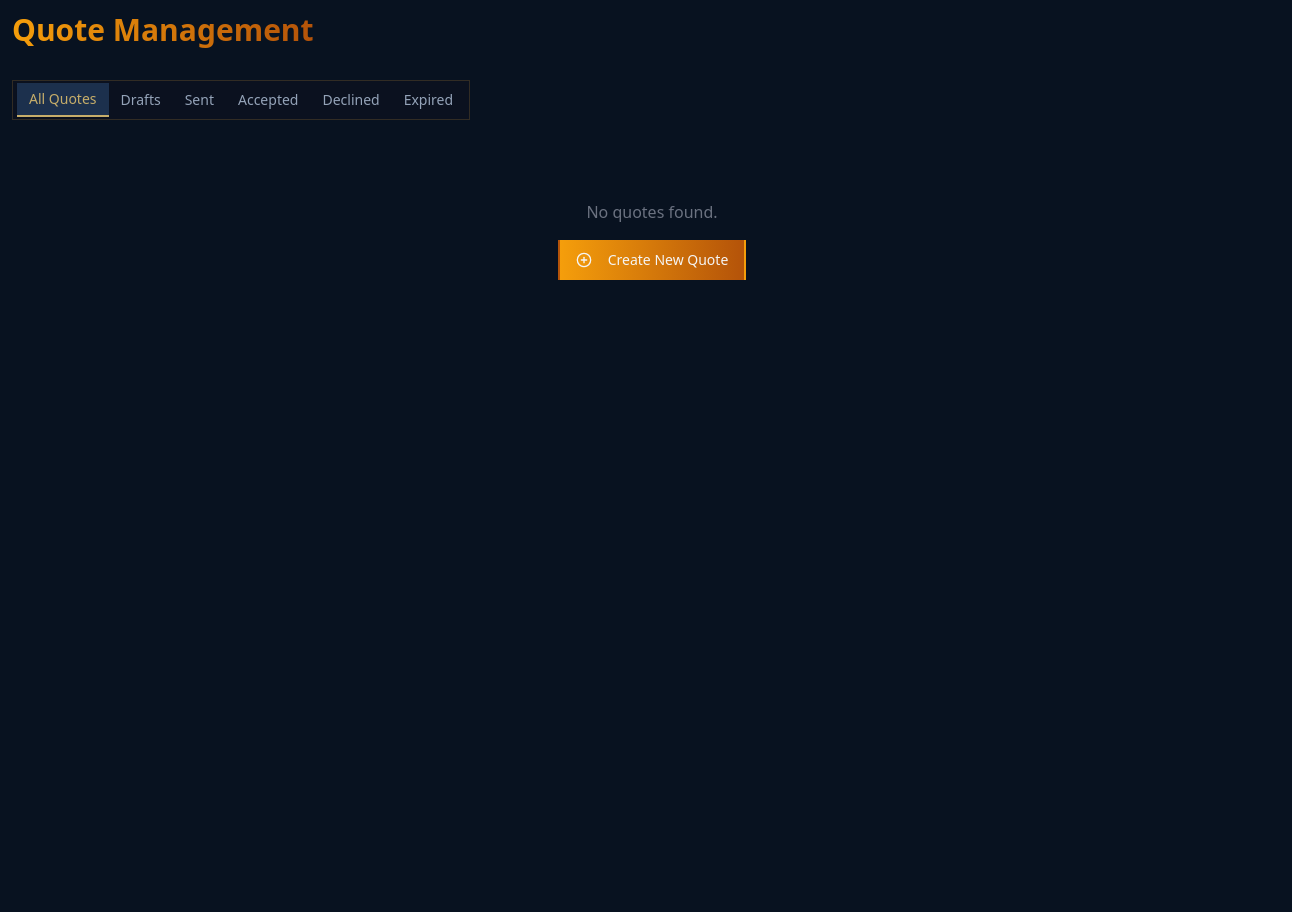
Scenario: QuoteManager – validation timing › shows the Project Name error after blurring an empty Project Name field
The width and height of the screenshot is (1292, 912).
Step 1. Click the button "Create New Quote" → click(652, 260), box [558, 240, 746, 280]
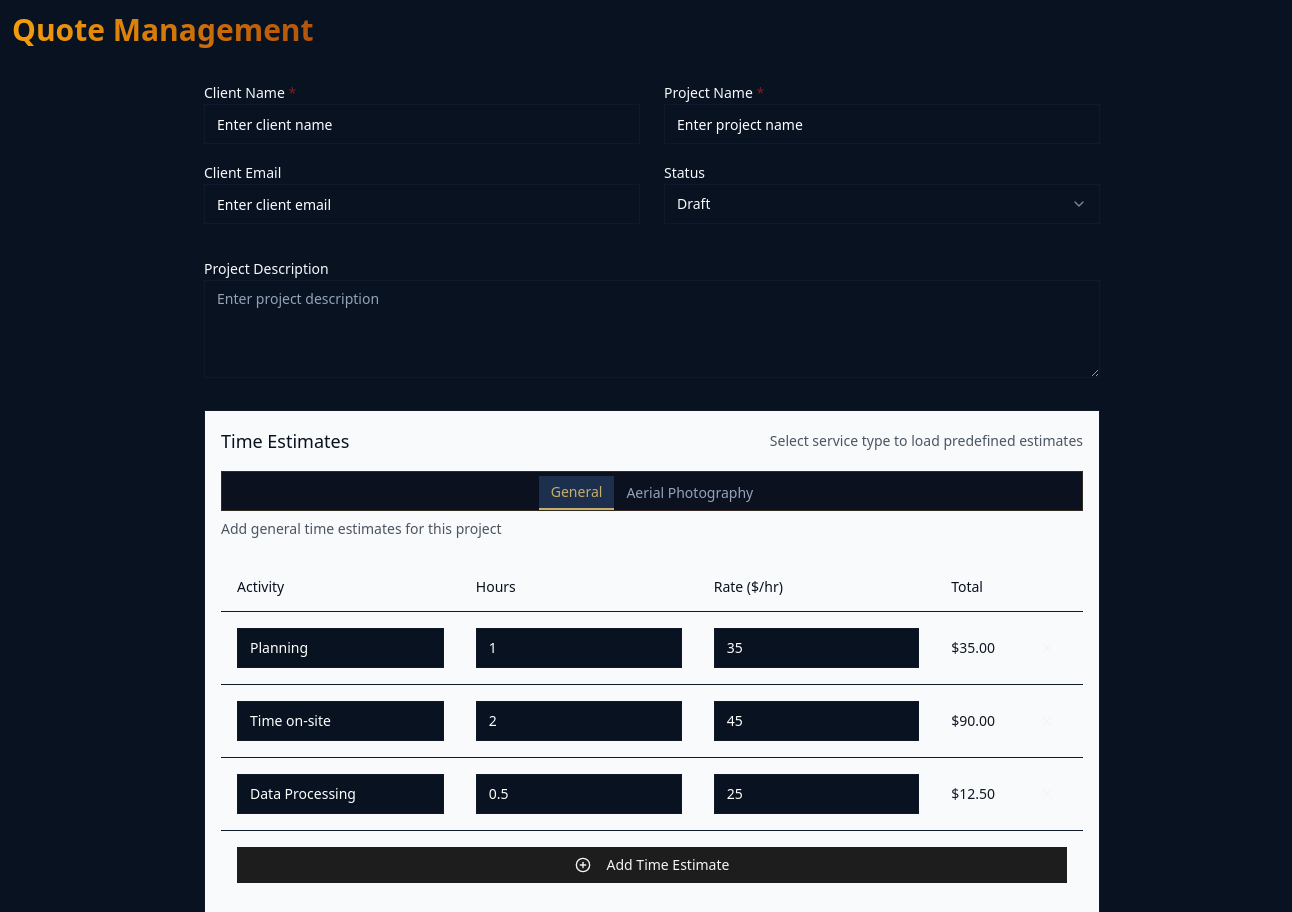
expect the field labelled "Client Name *" is shown: met, box [204, 104, 640, 144]
expect the field labelled "Project Name *" is shown: met
Step 2. Leave the field labelled "Project Name *", box [664, 104, 1100, 144]
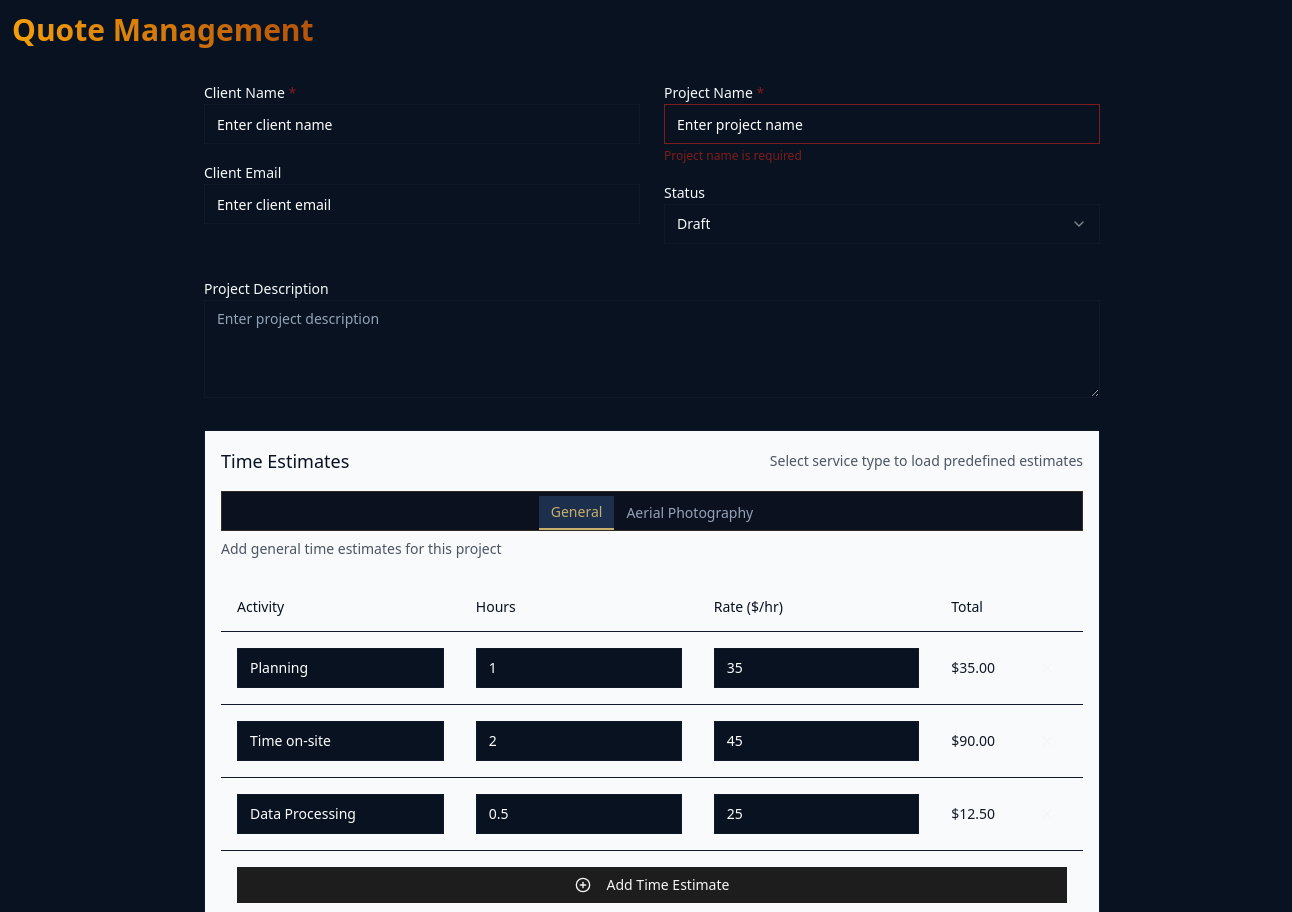
expect the text "Project name is required" is shown: met, box [664, 147, 802, 164]
